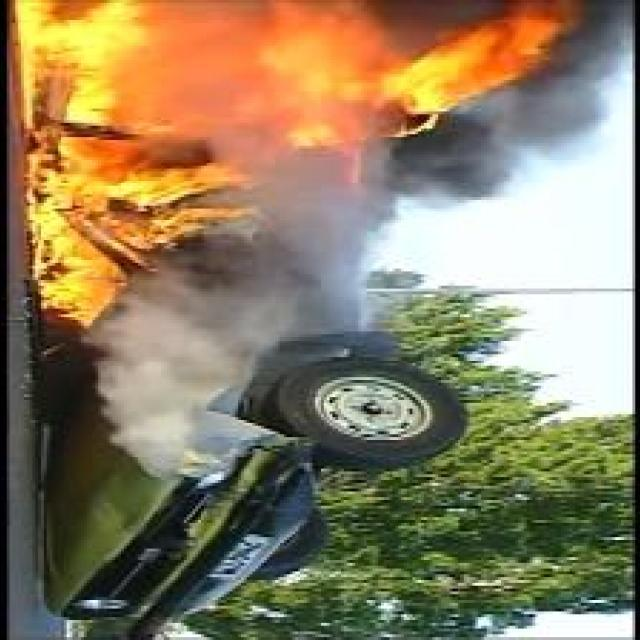Fire: (14, 1, 577, 328)
